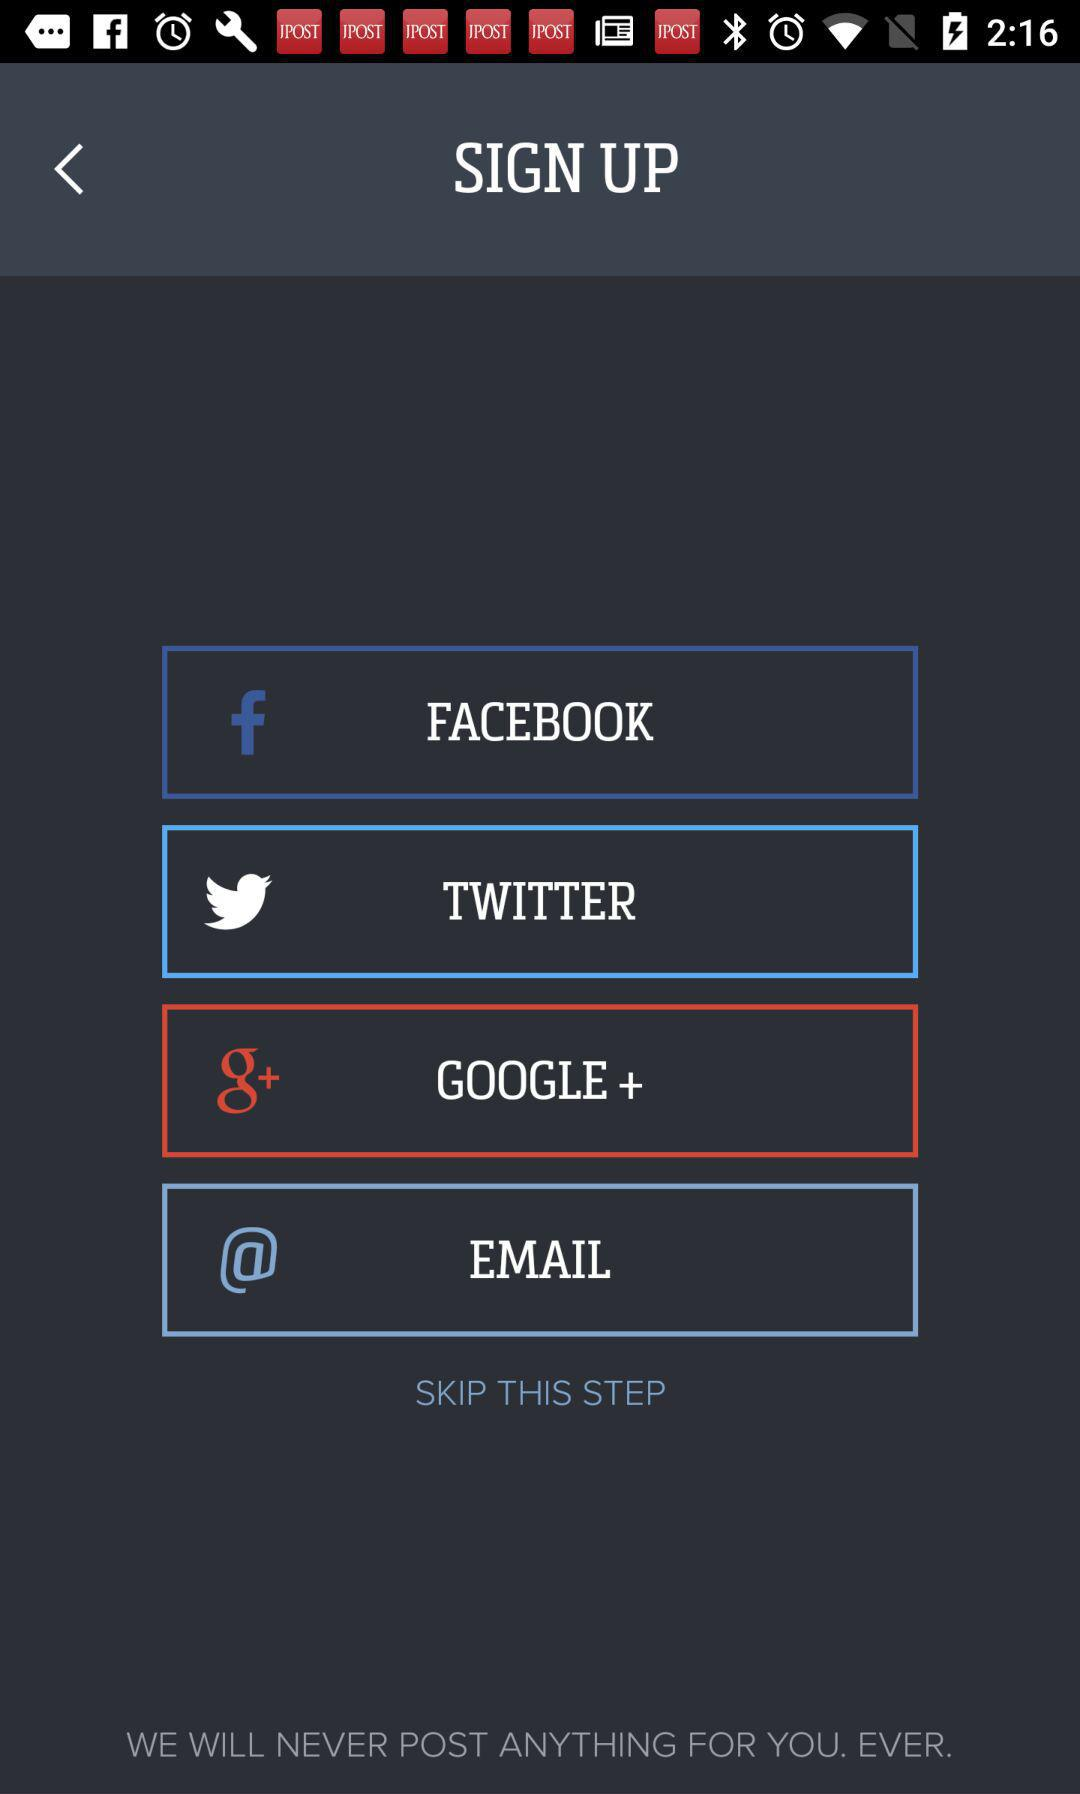Icon: (53, 144, 86, 197)
Text: (127, 1731, 953, 1759), (454, 142, 680, 196), (415, 1378, 666, 1407)
TextButton: (161, 645, 919, 801), (161, 1003, 919, 1158), (161, 1183, 919, 1338), (161, 825, 919, 980)
Toolbar: (1, 64, 1080, 278)
UpperTaskBar: (1, 1, 1080, 64)
